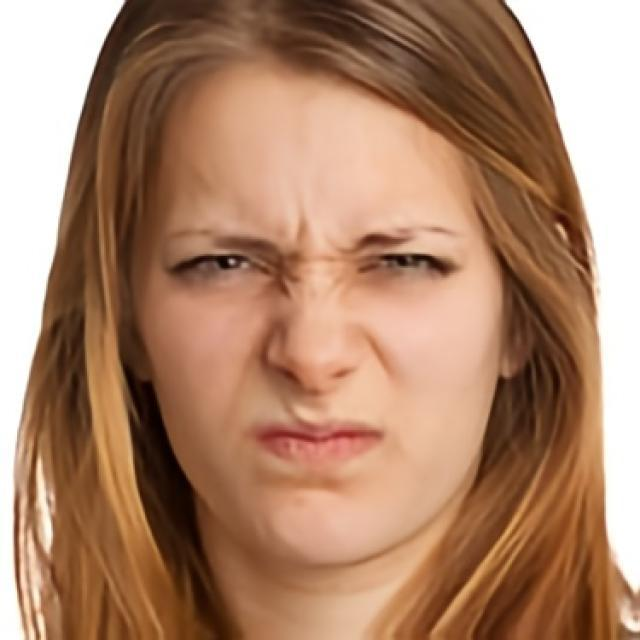disgust: (133, 56, 503, 568)
